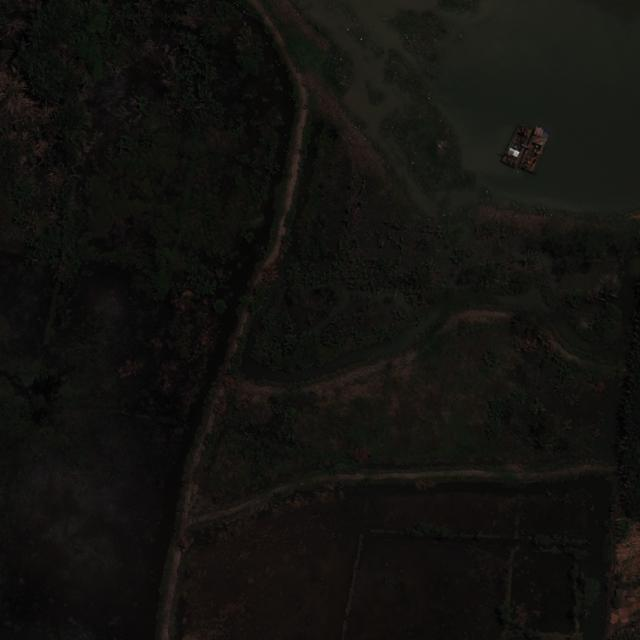Other Ship: (518, 125, 553, 175), (501, 122, 535, 169)
